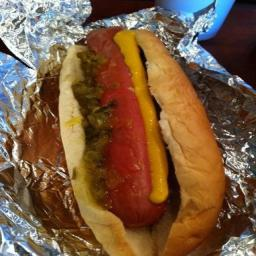hotdog: (84, 26, 170, 226)
